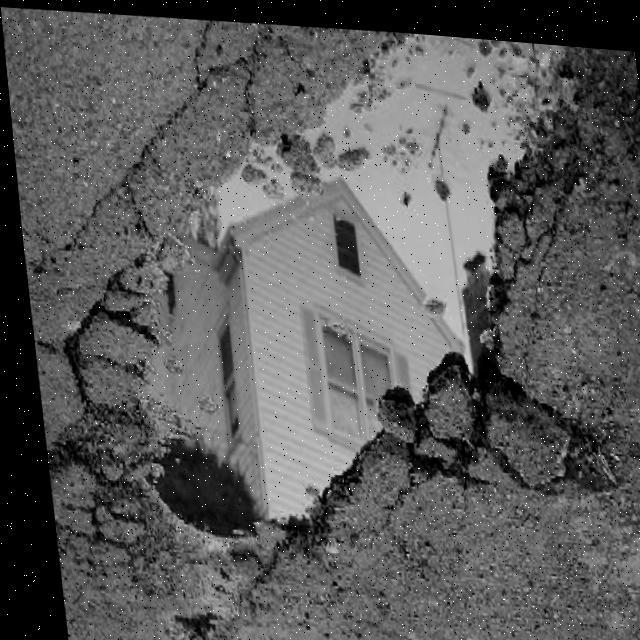pothole: (90, 6, 621, 601)
